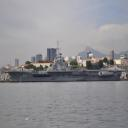Portanaves: (5, 39, 127, 84)
